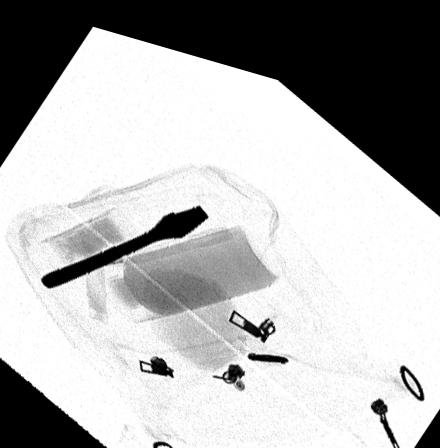Wrench: (38, 195, 208, 288)
